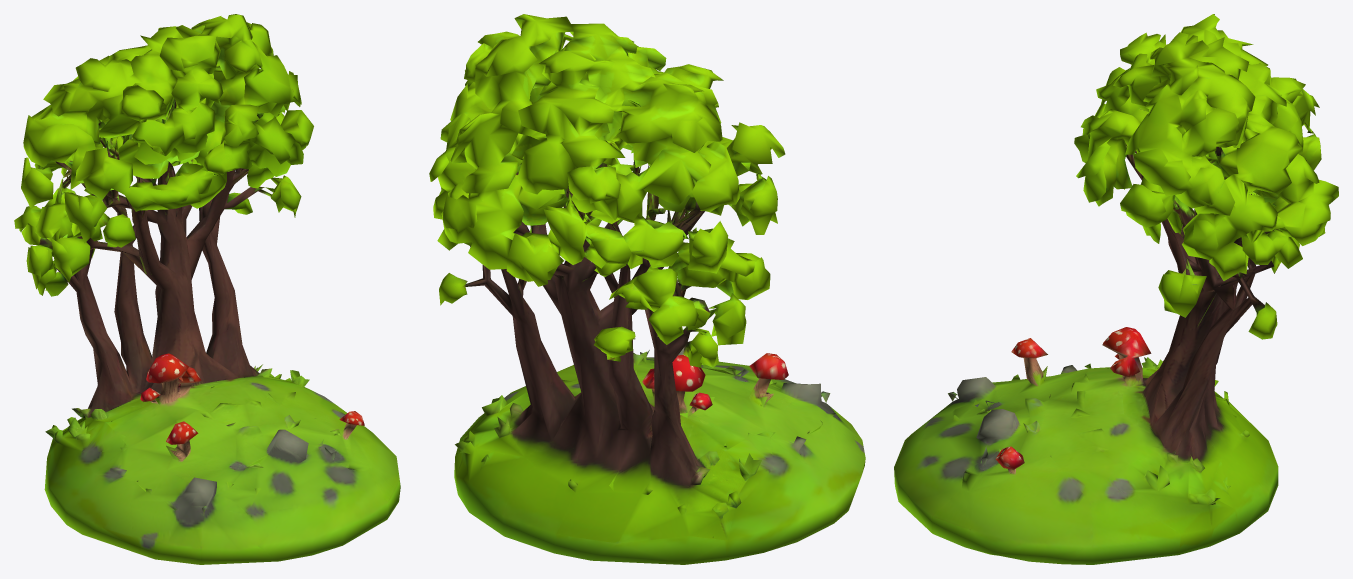
Rendered from act1_trees.glb.
3 views of the same model, side by side, from view 1: azimuth 30°, elevation 25°; view 2: azimuth 150°, elevation 25°; view 3: azimuth 270°, elevation 25° (orthographic). The views are drawn at different scales.
Bounding box in the file's own units: 1.45 × 1.91 × 1.7.
1 material, 1 textured.
